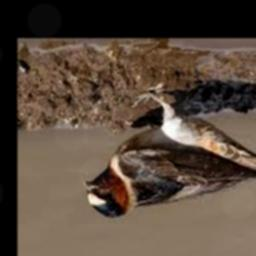Swallow: (84, 94, 256, 218)
